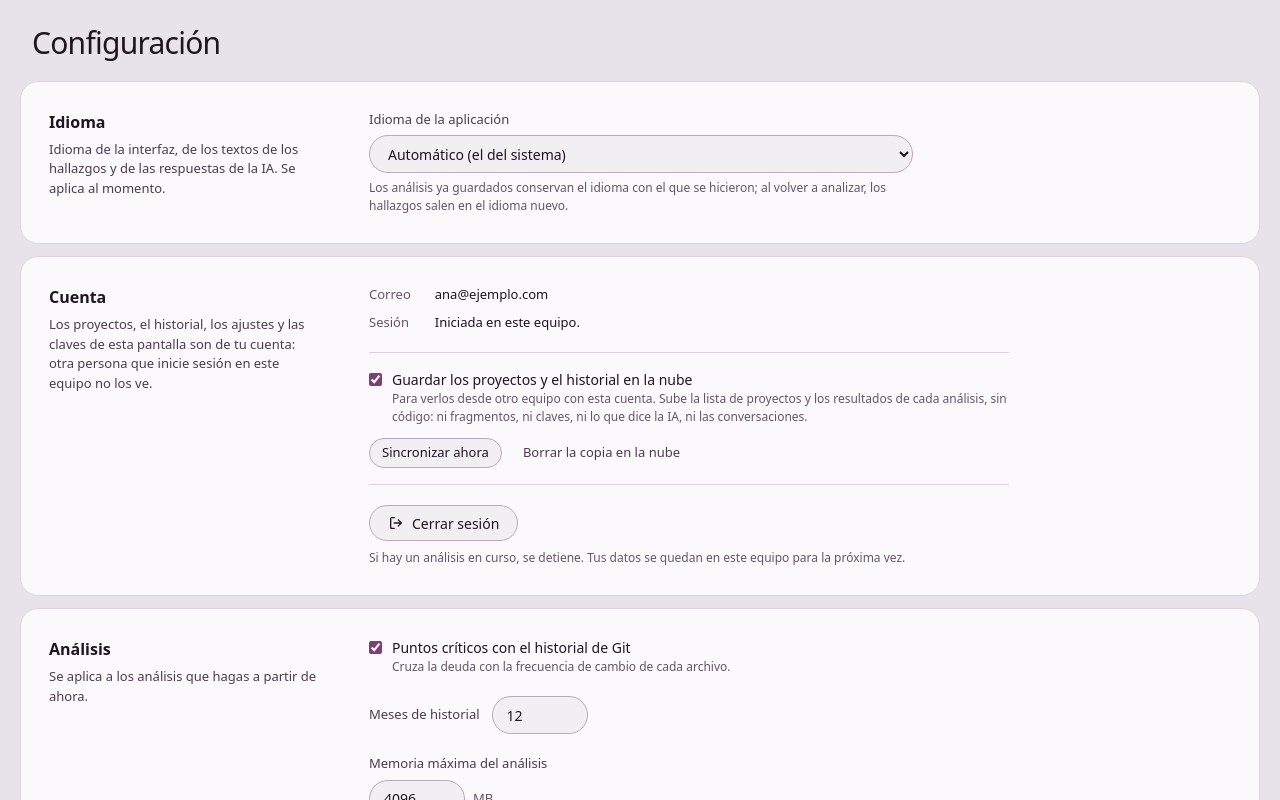
Scenario: Configuración › guarda todo el borrador de una vez y lo confirma
What coordinates should you click on to do the following:
click the checkbox labelled "Puntos críticos con el historial de Git"
I would click on:
 (376, 648)
Its box is [369, 641, 382, 654].
(page scrolled)
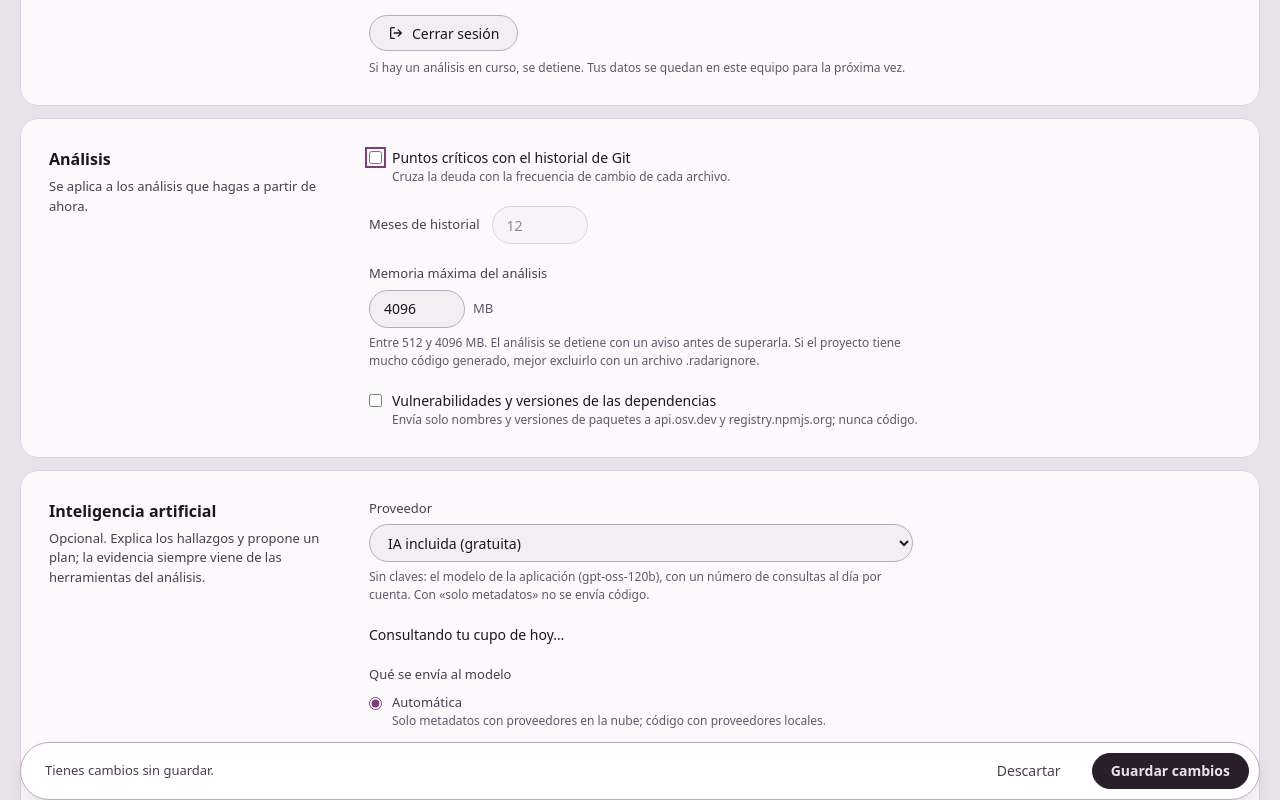
What coordinates should you click on to do the following:
click the checkbox labelled "Vulnerabilidades y versiones de las dependencias"
I would click on:
 (376, 400)
Its box is [369, 394, 382, 406].
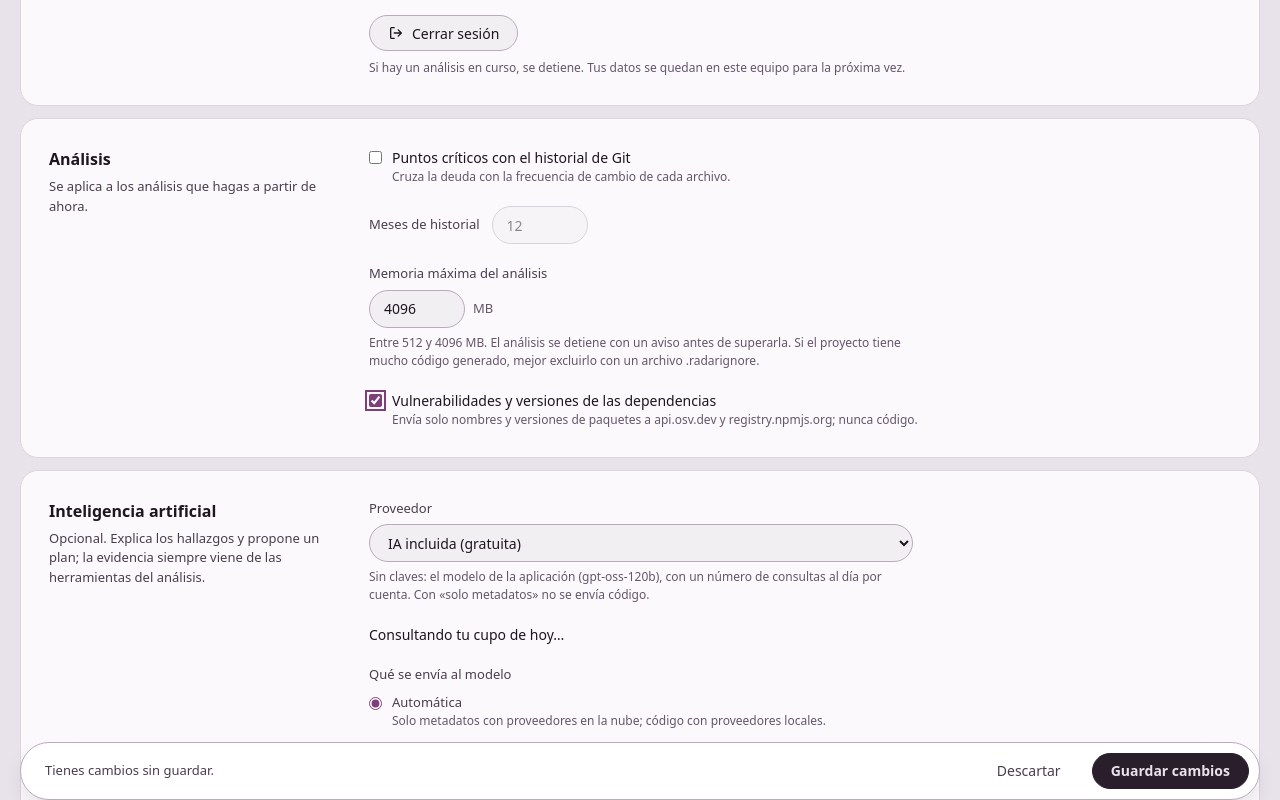
What coordinates should you click on to do the following:
click the button "Guardar cambios"
I would click on:
 (1170, 771)
Its box is [1092, 753, 1249, 789].
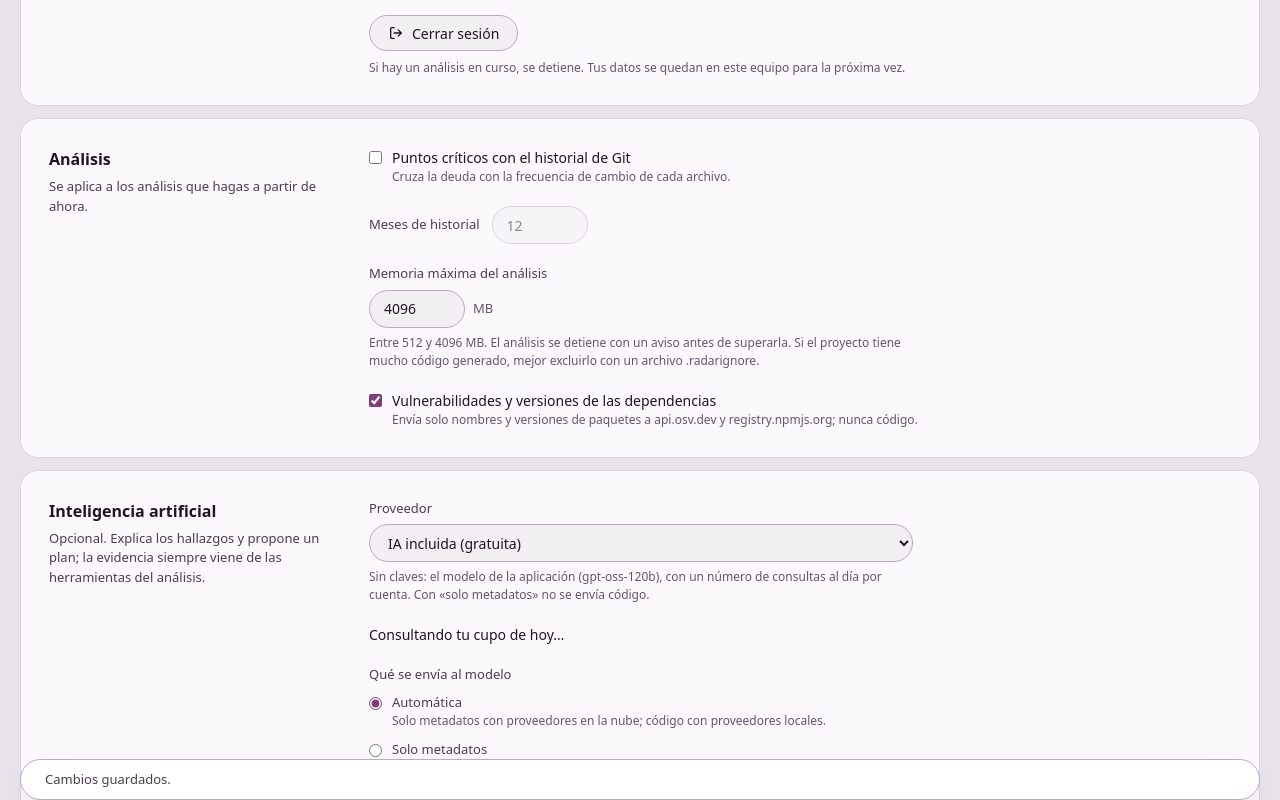
Result: the text "Cambios guardados." is shown at [45, 770, 171, 789]
Result: the button "Guardar cambios" is gone
